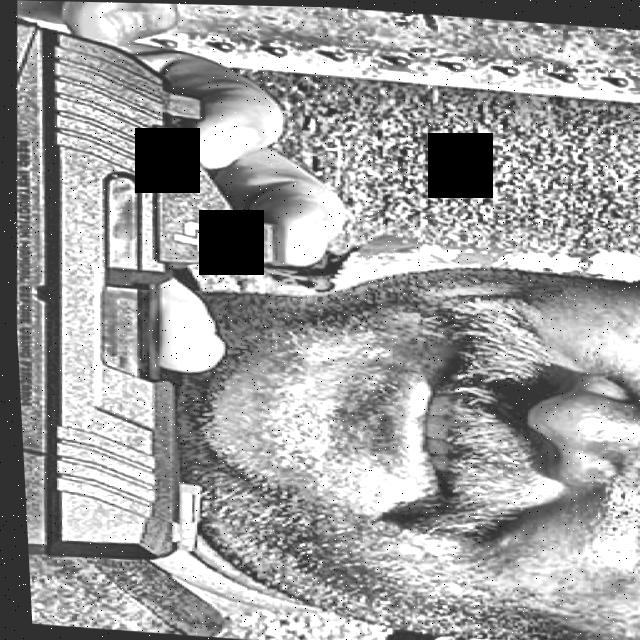Ruger: (0, 11, 313, 574)
